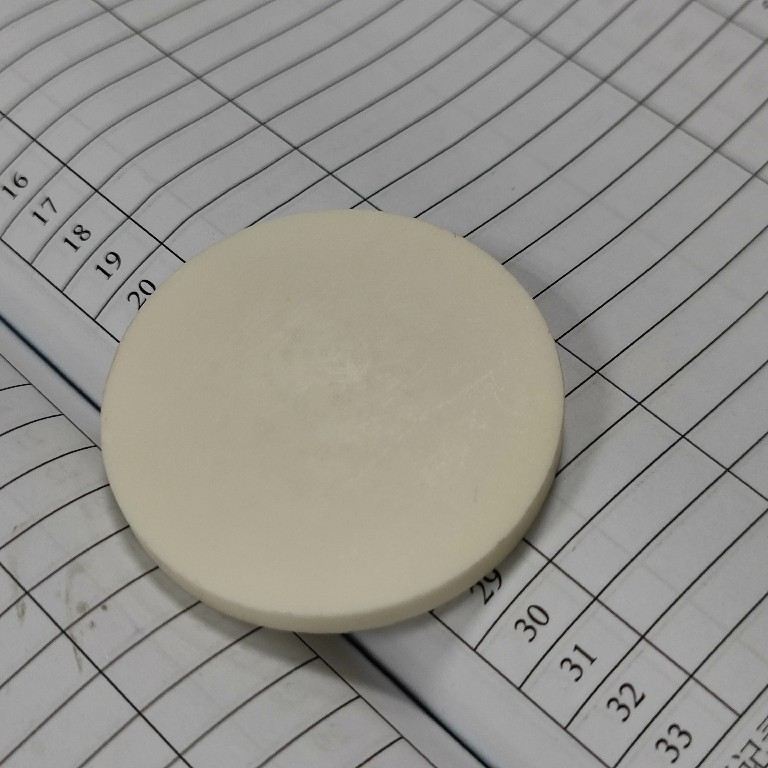ceramics: (91, 200, 564, 639)
